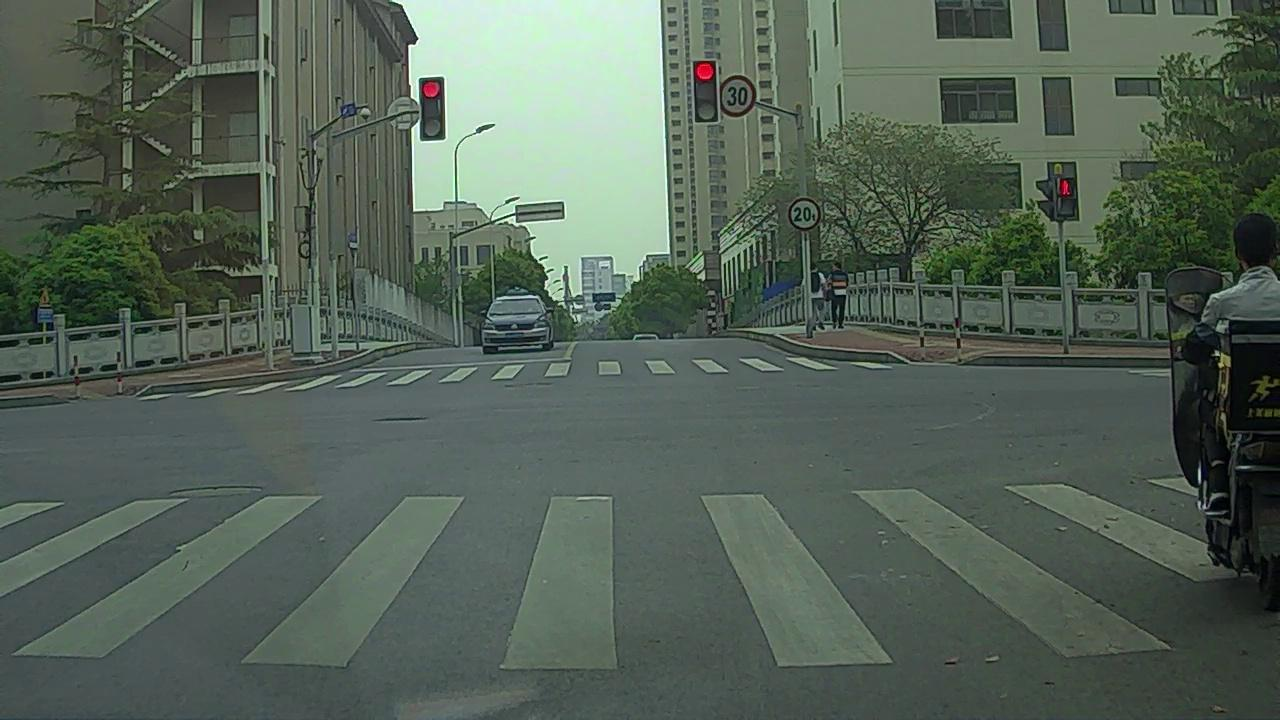traffic_light: (692, 61, 719, 122), (422, 79, 446, 142)
